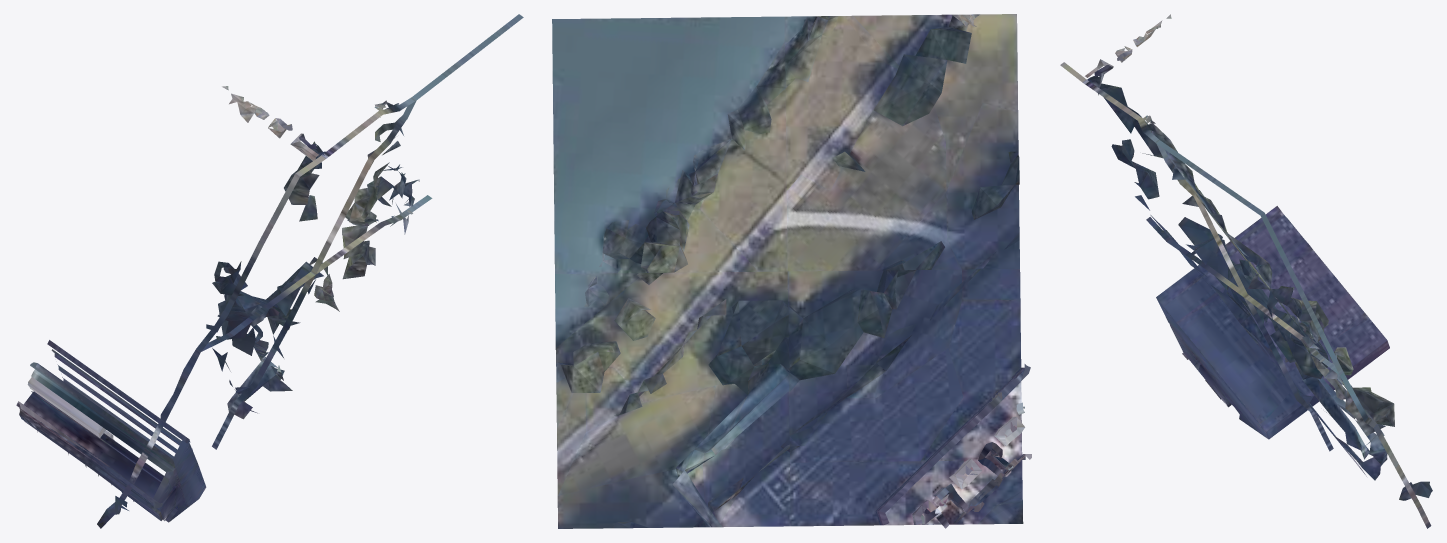
3 views of the same model, side by side, from view 1: azimuth 30°, elevation 25°; view 2: azimuth 150°, elevation 25°; view 3: azimuth 270°, elevation 25° (orthographic). The views are drawn at different scales.
Size of the model in its own units: 174 by 157 by 129.
Materials: 2 (2 with a texture image).
